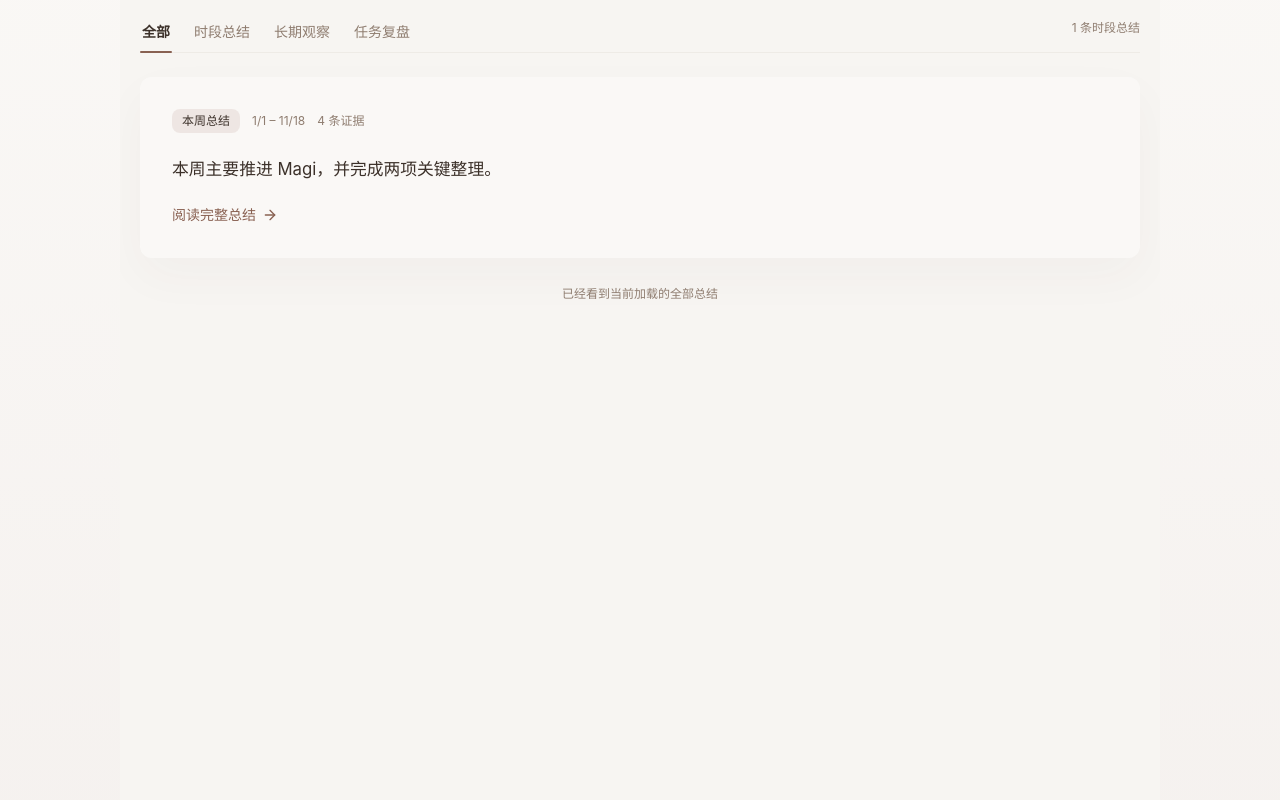
Test case: MemoryStoryPage › keeps the featured preview concise and opens full markdown in detail
The width and height of the screenshot is (1280, 800).
expect the element with test id "memory-stories-featured" does not show "修复 CI": met, box left=140, top=77, right=1140, bottom=258
Click the button "本周主要推进 Magi，并完成两项关键整理。 阅读完整总结" at (336, 169), box left=172, top=153, right=1108, bottom=226
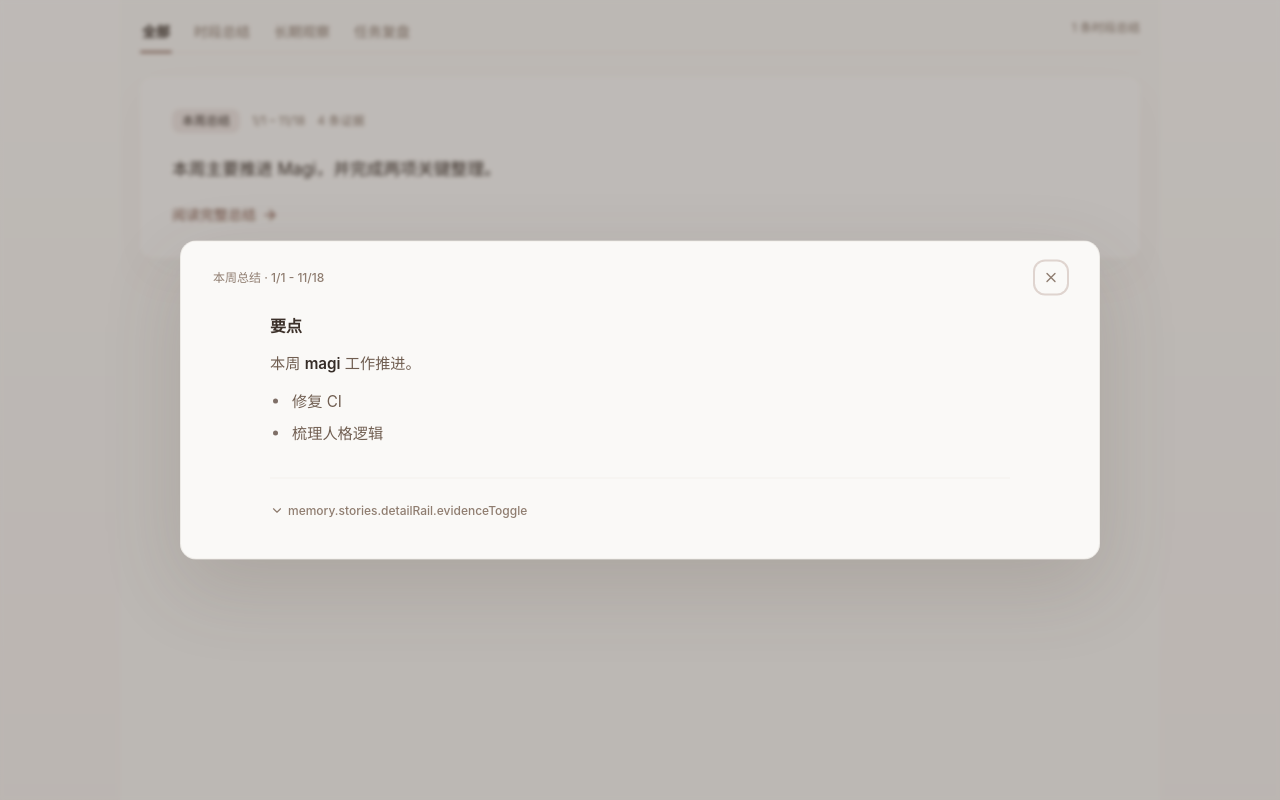
expect the heading "要点" is shown: met, box left=270, top=316, right=302, bottom=336
expect the text "magi" is shown: met, box left=305, top=354, right=341, bottom=372
expect the number of list items is 2: met, box left=292, top=392, right=342, bottom=410; left=292, top=424, right=383, bottom=442
